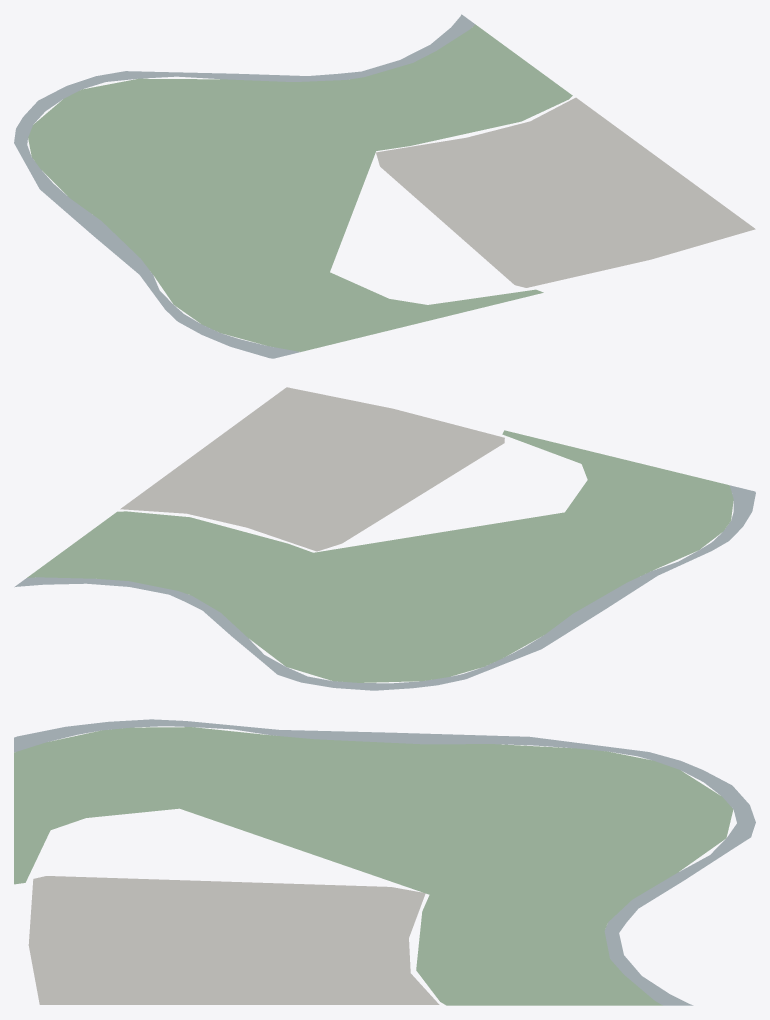
Rendered from 97_98_mid.glb.
3 views of the same model, one above another, from view 1: azimuth 30°, elevation 25°; view 2: azimuth 150°, elevation 25°; view 3: azimuth 270°, elevation 25° (orthographic). The views are drawn at different scales.
Size of the model in its own units: 428 by 0.3822 by 469.
